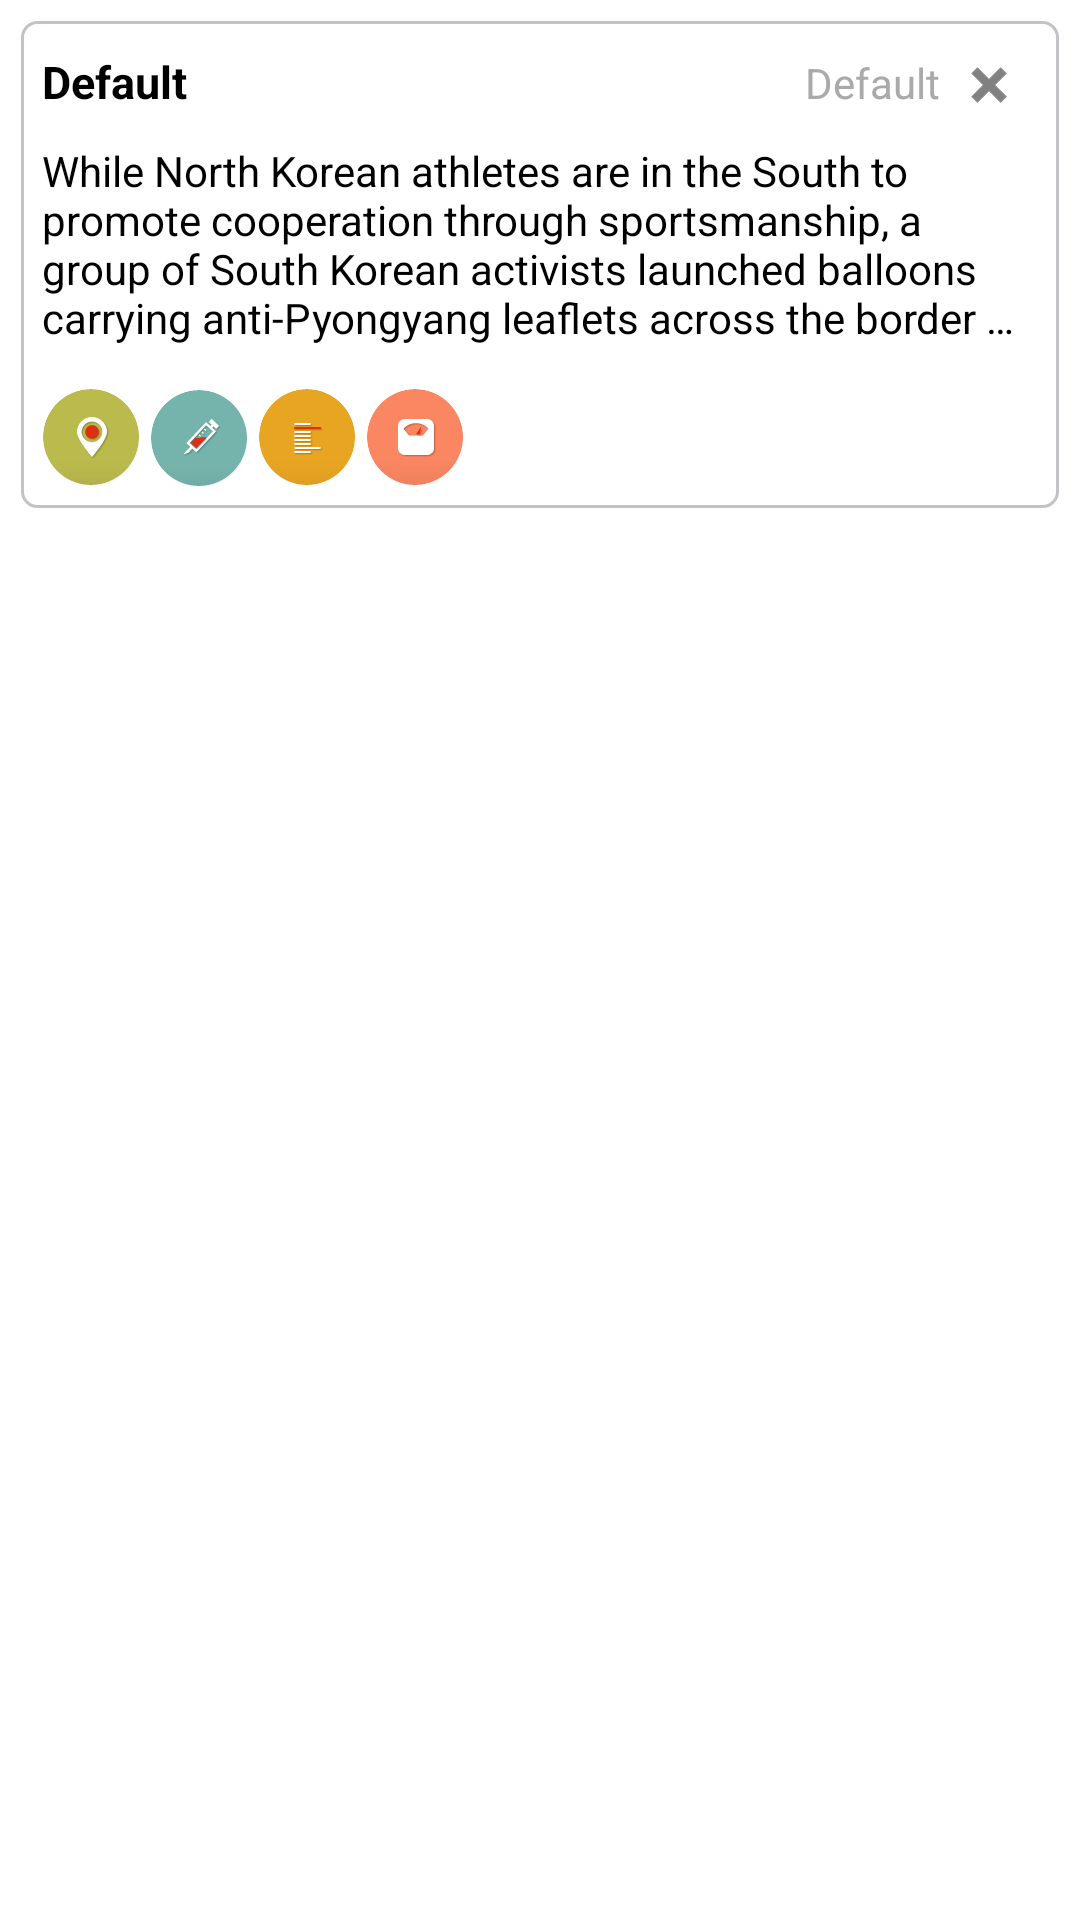

Where to tap for icons on this 1080*1920 app screen, as (x,y):
diary height: (307,437)
diary location: (91,437)
diary remove: (989,85)
diary vaccine: (199,438)
diary weight: (415,437)
